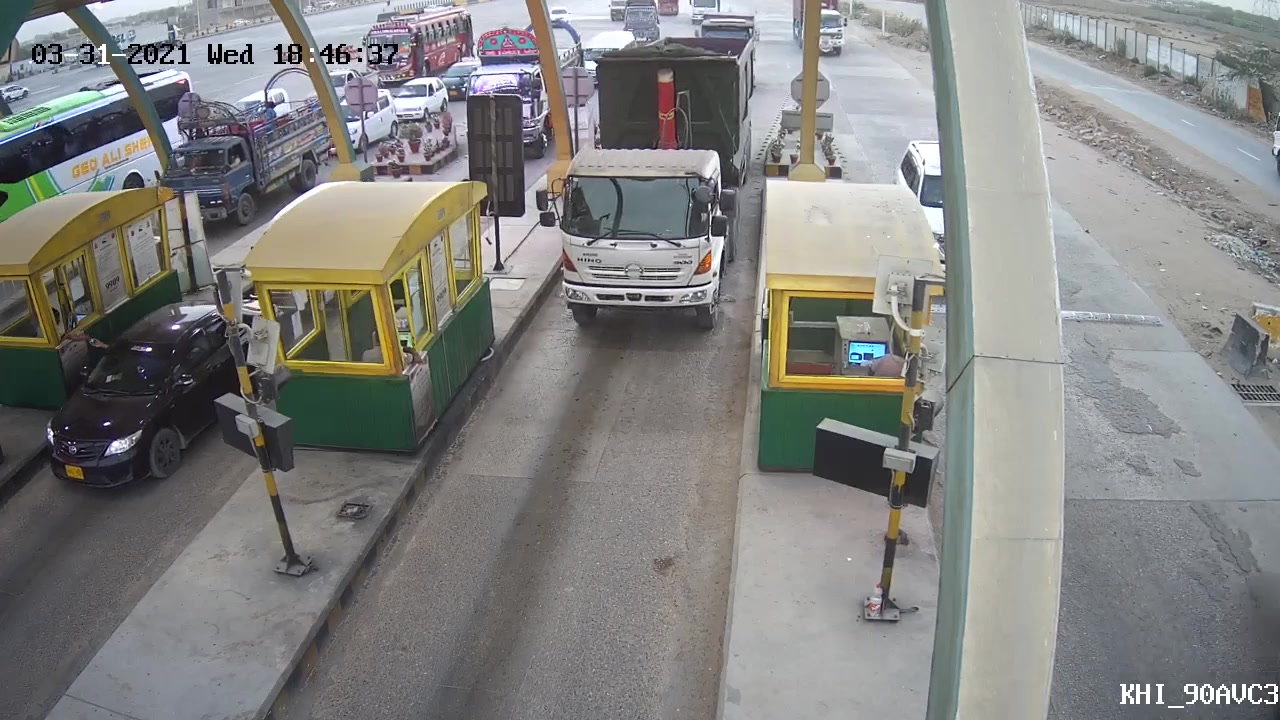F5: (529, 35, 760, 342)
